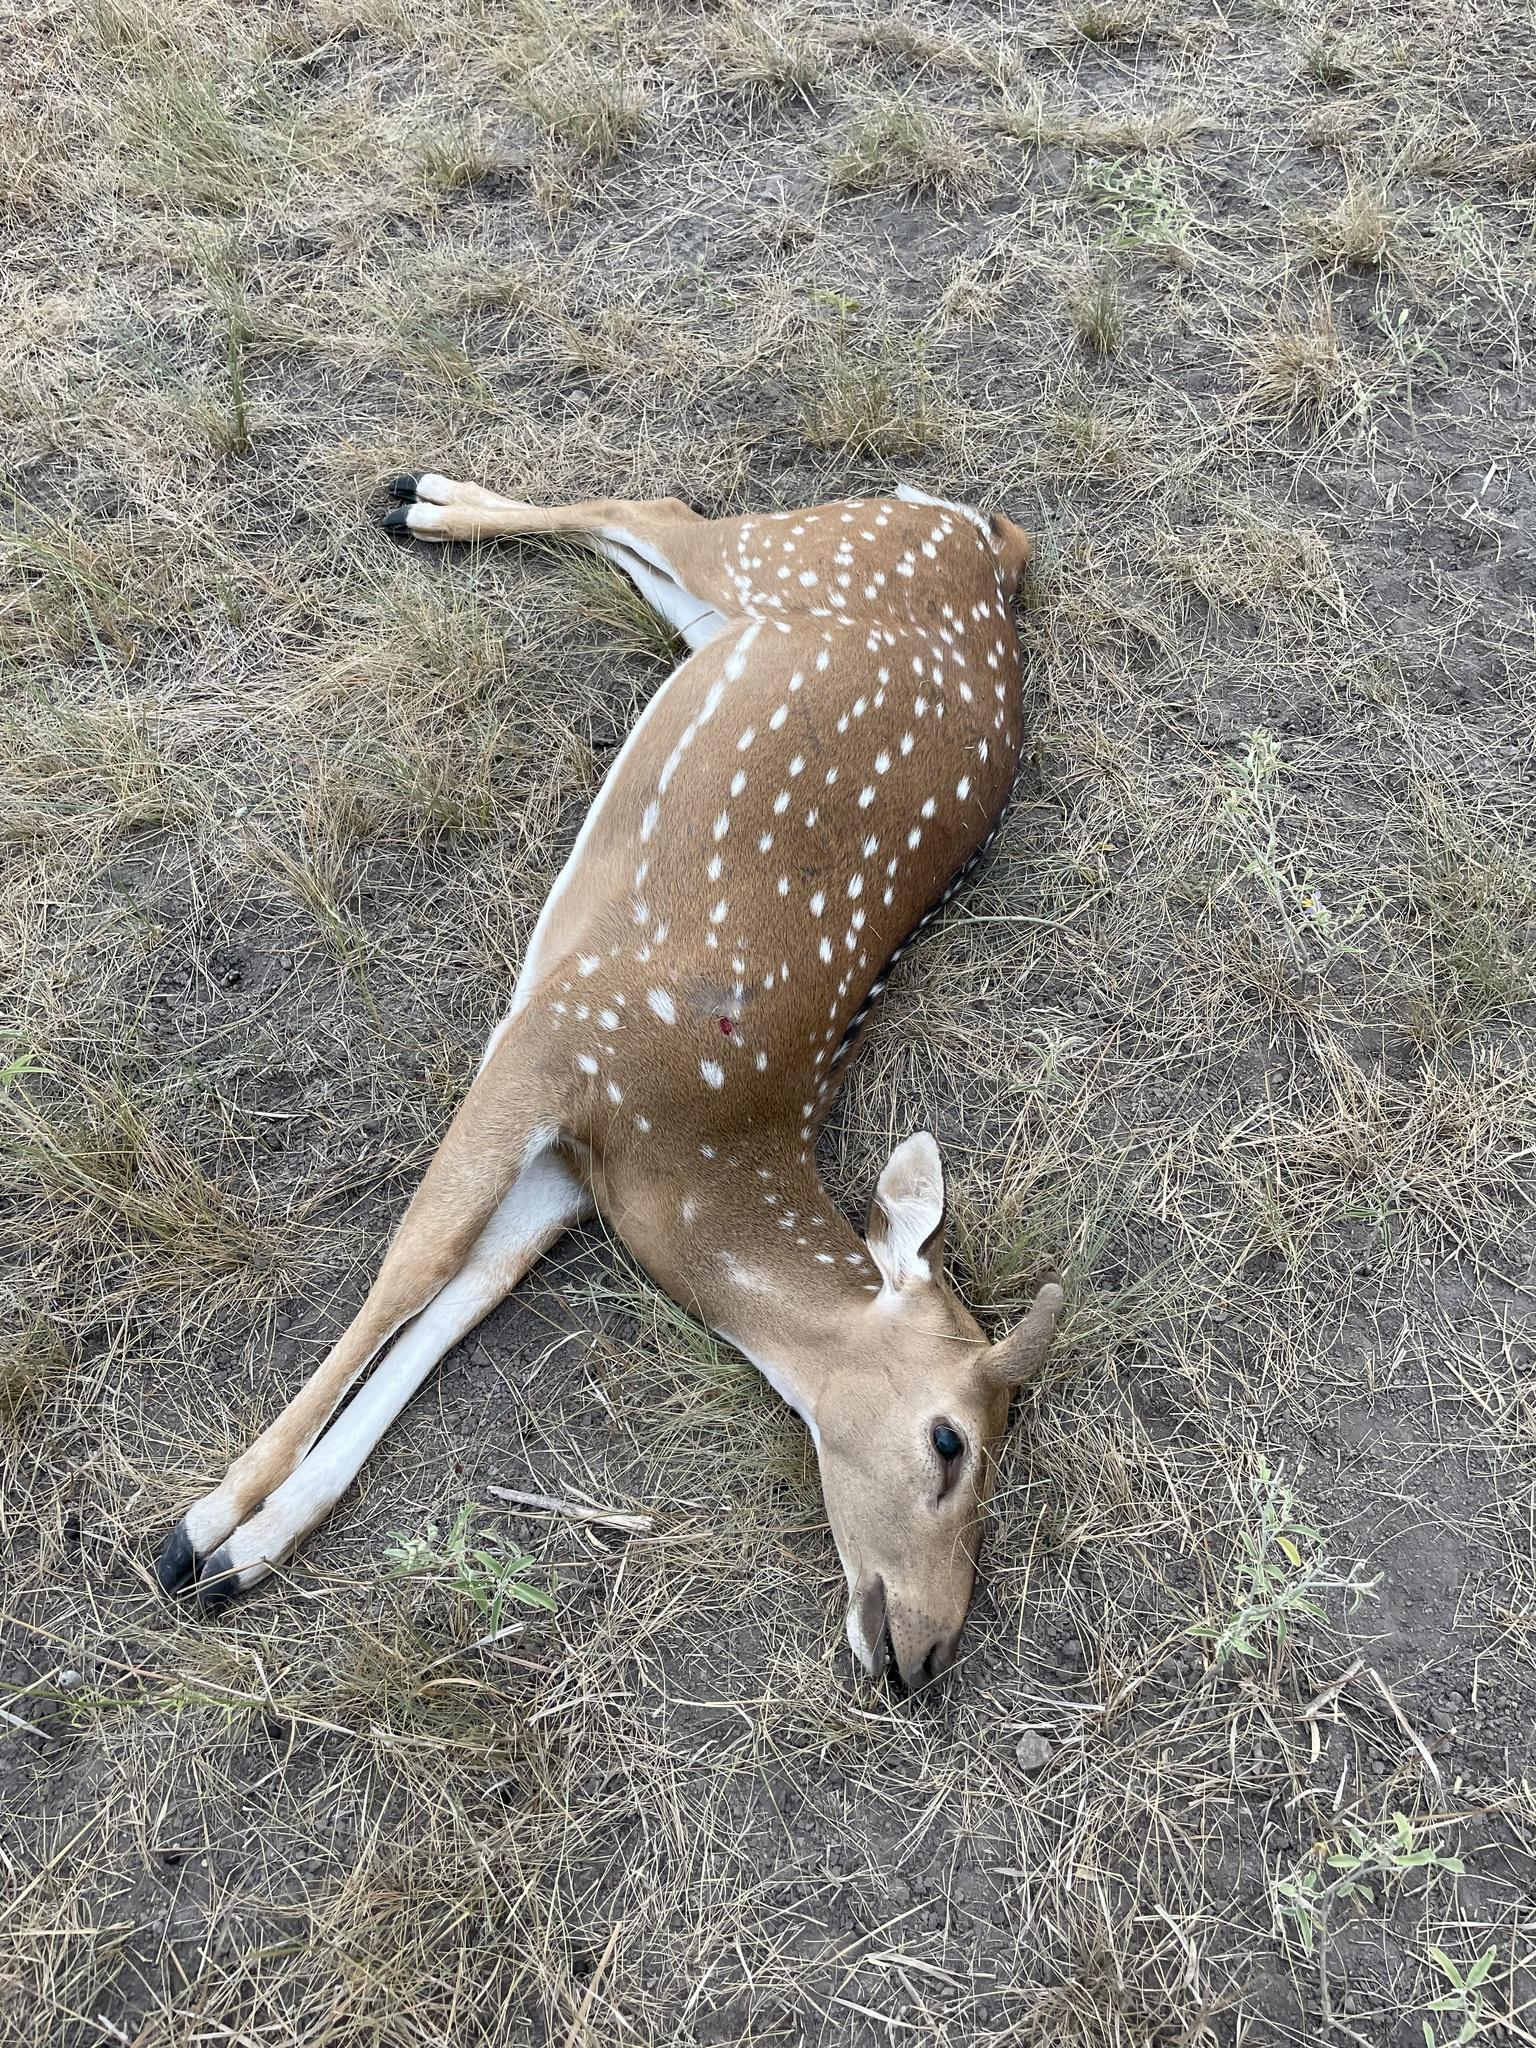Deer: (157, 474, 1062, 1690)
